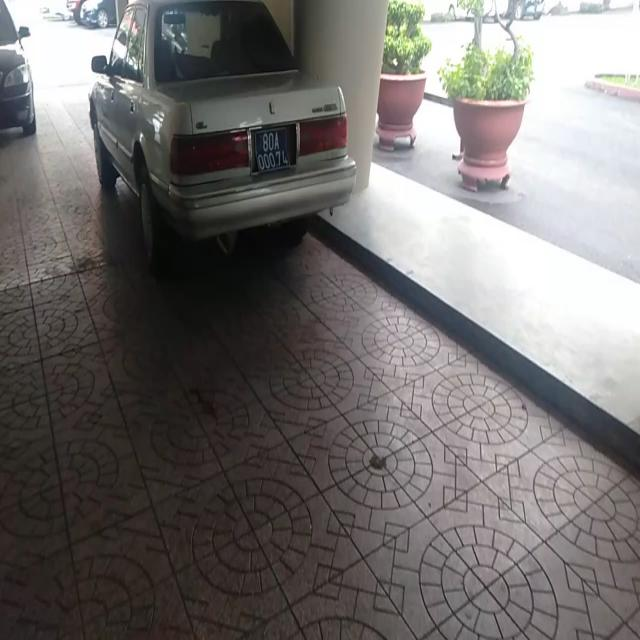bien_xanh: (252, 125, 294, 177)
